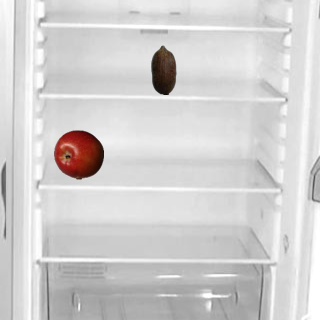Apple Braeburn: (53, 129, 103, 179)
Nut Pecan: (138, 44, 188, 94)
